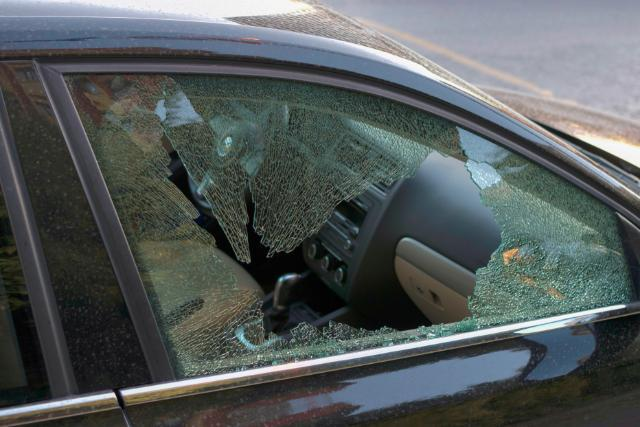Door: (46, 65, 639, 427)
